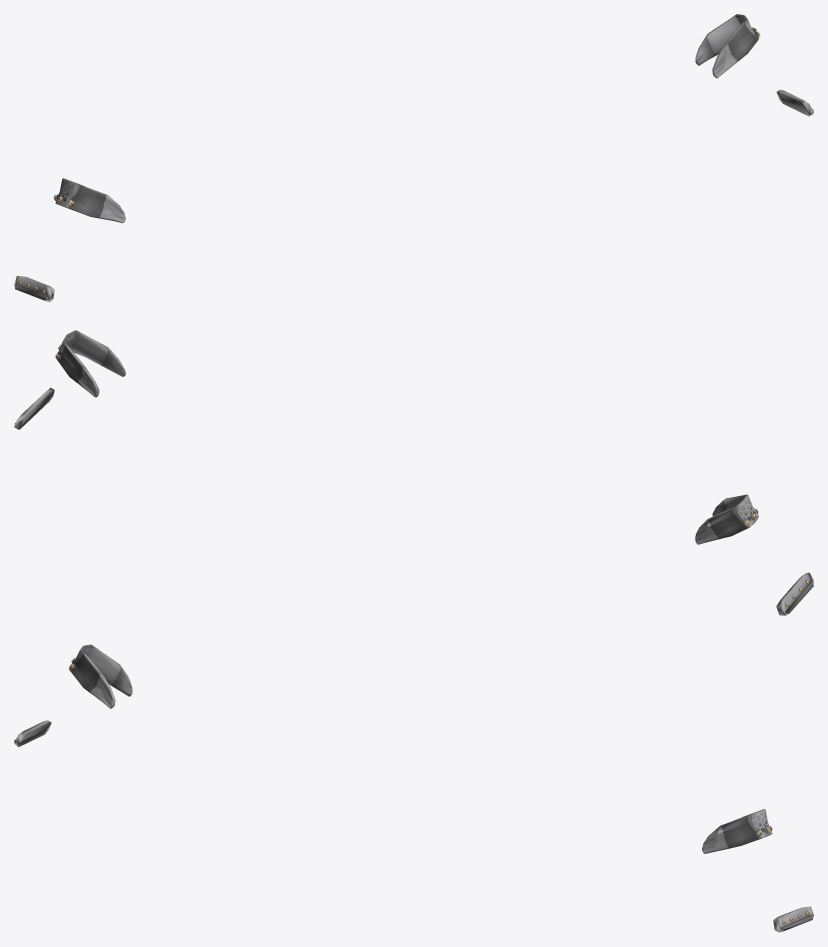
File: tl3_titanium_skeleton.gltf
3 views of the same model, one above another, from view 1: azimuth 30°, elevation 25°; view 2: azimuth 150°, elevation 25°; view 3: azimuth 330°, elevation 25° (orthographic).
Parts seen in each view (by area): view 1: B_forearm_L__tl3_titanium_skeleton, B_forearm_R__tl3_titanium_skeleton, B_hand_R__tl3_titanium_skeleton; view 2: B_forearm_L__tl3_titanium_skeleton, B_forearm_R__tl3_titanium_skeleton, B_hand_R__tl3_titanium_skeleton, B_hand_L__tl3_titanium_skeleton; view 3: B_forearm_R__tl3_titanium_skeleton, B_forearm_L__tl3_titanium_skeleton, B_hand_L__tl3_titanium_skeleton.
Part boxes in pixels (x1=…): B_forearm_L__tl3_titanium_skeleton: x1=695, y1=14, x2=760, y2=78; B_forearm_R__tl3_titanium_skeleton: x1=53, y1=178, x2=125, y2=223; B_hand_R__tl3_titanium_skeleton: x1=14, y1=276, x2=54, y2=301; B_forearm_L__tl3_titanium_skeleton: x1=55, y1=330, x2=125, y2=397; B_forearm_R__tl3_titanium_skeleton: x1=695, y1=494, x2=758, y2=544; B_hand_R__tl3_titanium_skeleton: x1=776, y1=572, x2=813, y2=615; B_hand_L__tl3_titanium_skeleton: x1=14, y1=387, x2=54, y2=429; B_forearm_R__tl3_titanium_skeleton: x1=69, y1=644, x2=132, y2=708; B_forearm_L__tl3_titanium_skeleton: x1=702, y1=809, x2=772, y2=853; B_hand_L__tl3_titanium_skeleton: x1=773, y1=906, x2=813, y2=932.
Bounding box in the file's own units: 1.2 × 0.1526 × 0.0975.
1 material, 1 textured.
